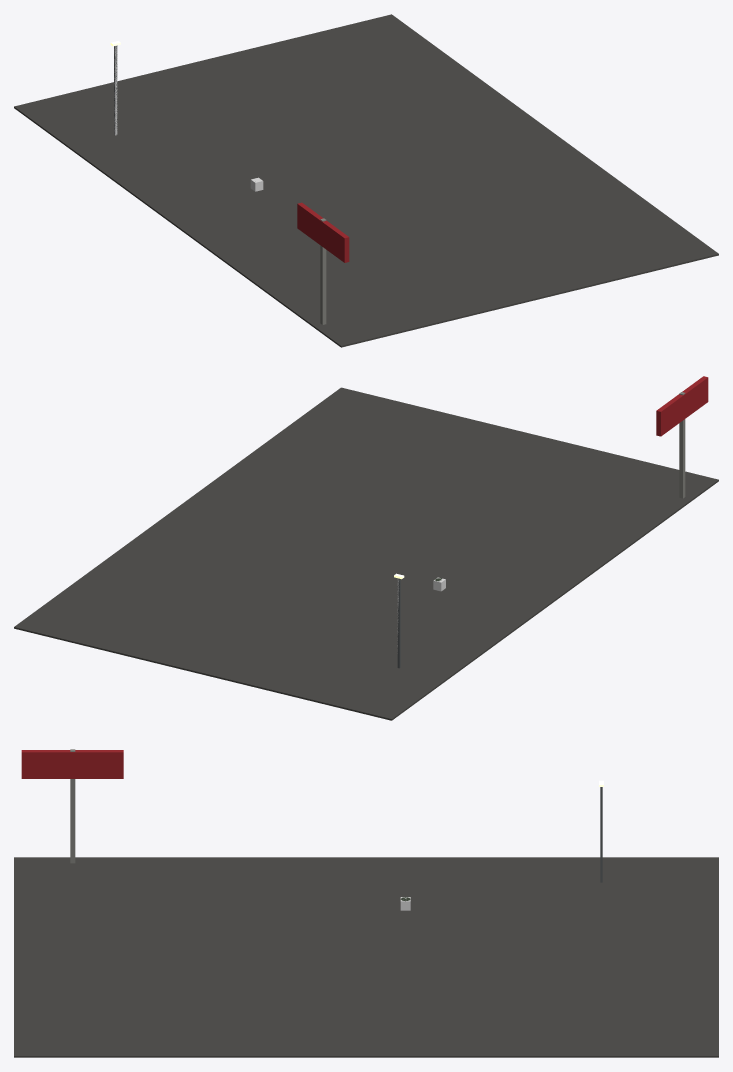
File: diner-apron.glb
3 renders of one model, top to bottom at view 1: azimuth 30°, elevation 25°; view 2: azimuth 150°, elevation 25°; view 3: azimuth 270°, elevation 25°, orthographic. The views are drawn at different scales.
Parts seen in each view (by area): view 1: 00_#4e4d4a_noshadow, 02_paint0_noshadow, 01_#8a8a84; view 2: 00_#4e4d4a_noshadow, 02_paint0_noshadow, 01_#8a8a84; view 3: 00_#4e4d4a_noshadow, 02_paint0_noshadow, 01_#8a8a84.
Part boxes in pixels (left/top/right/bottom): 00_#4e4d4a_noshadow: left=14, top=14, right=718, bottom=347; 02_paint0_noshadow: left=297, top=202, right=349, bottom=262; 01_#8a8a84: left=320, top=218, right=326, bottom=324; 00_#4e4d4a_noshadow: left=14, top=387, right=718, bottom=720; 02_paint0_noshadow: left=656, top=376, right=708, bottom=436; 01_#8a8a84: left=679, top=392, right=685, bottom=498; 00_#4e4d4a_noshadow: left=14, top=857, right=718, bottom=1057; 02_paint0_noshadow: left=21, top=750, right=123, bottom=778; 01_#8a8a84: left=70, top=749, right=75, bottom=863.
Size of the model in its own units: 24 by 6.42 by 36.
